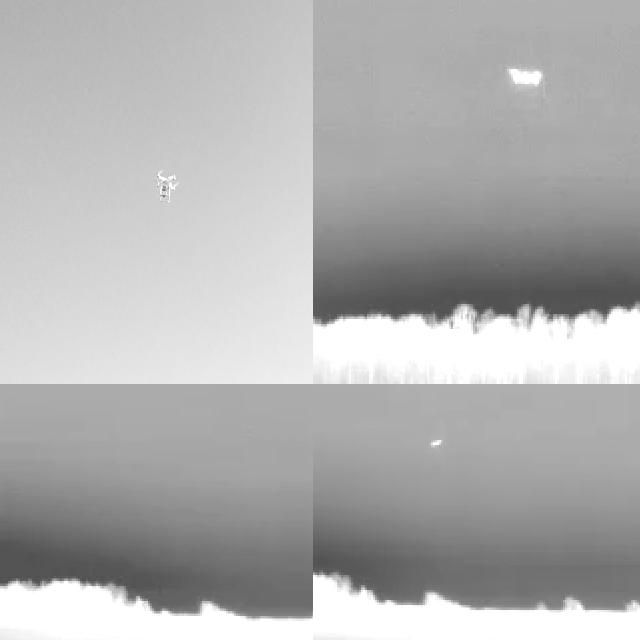1: (497, 62, 557, 96), (416, 428, 456, 470)
drone: (152, 167, 181, 205)
